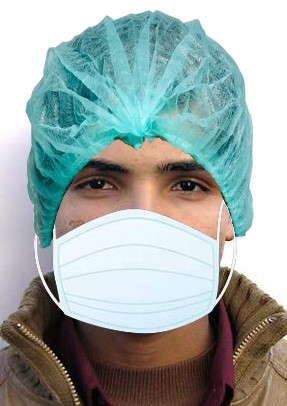with_mask_and_cap: (29, 10, 252, 334)
